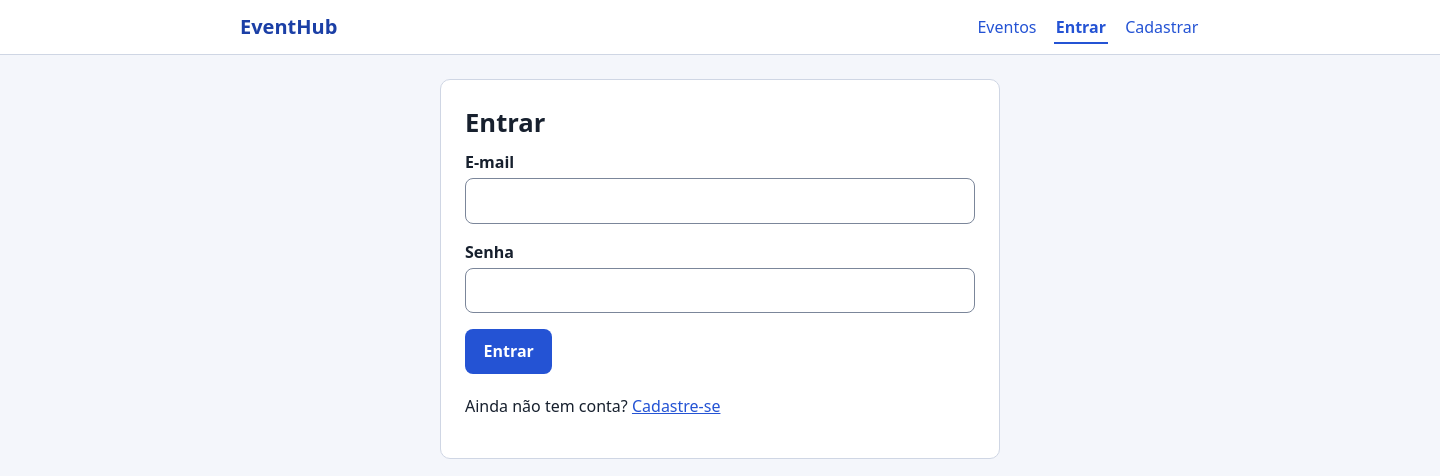
Rotas e guardas (só experiência de navegação; o backend autoriza de fato) › participante vê "acesso negado" na busca, sem nenhuma chamada à API de busca
Type "maria@example.com" into the field labelled "E-mail".
click(720, 201); type("maria@example.com")  # box [465,178,975,224]
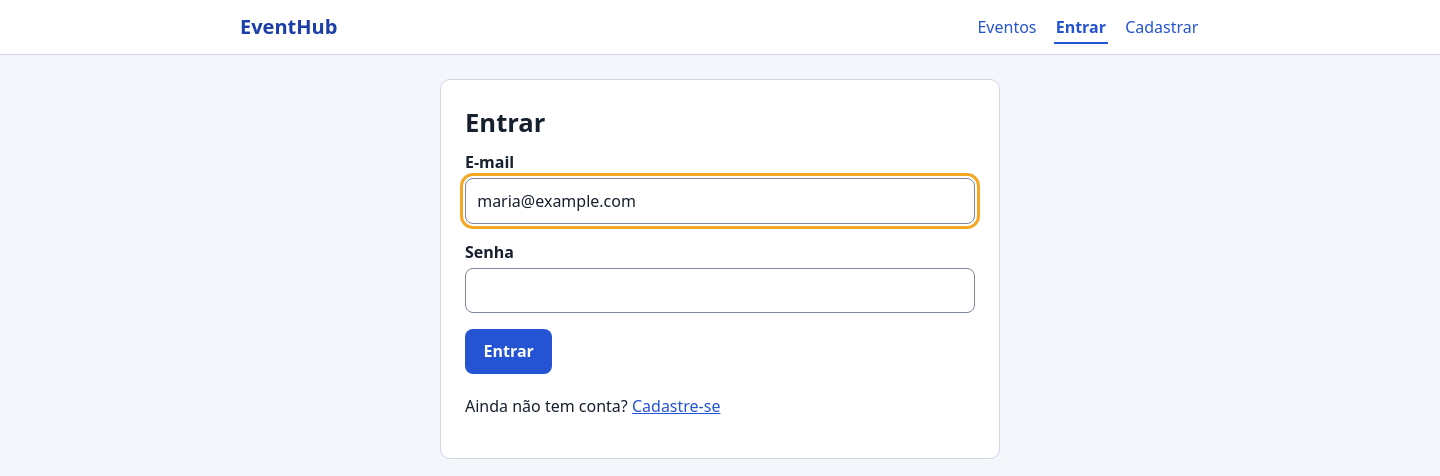
Type "senha-forte-123" into the password field labelled "Senha".
click(720, 290); type("senha-forte-123")  # box [465,268,975,313]
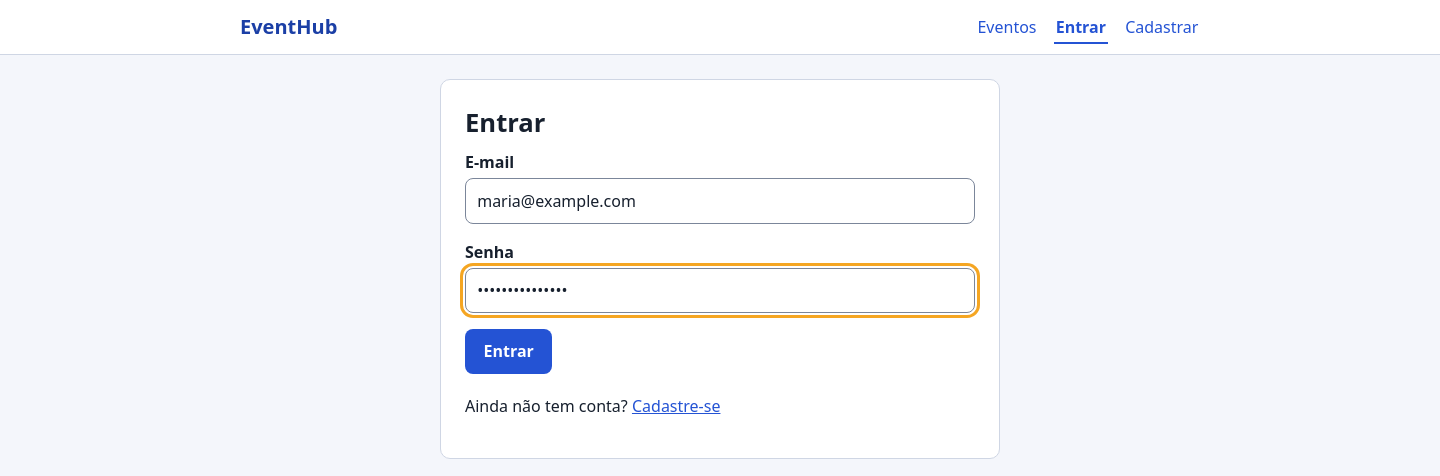
Click the button "Entrar".
click(509, 351)  # box [465,329,552,374]
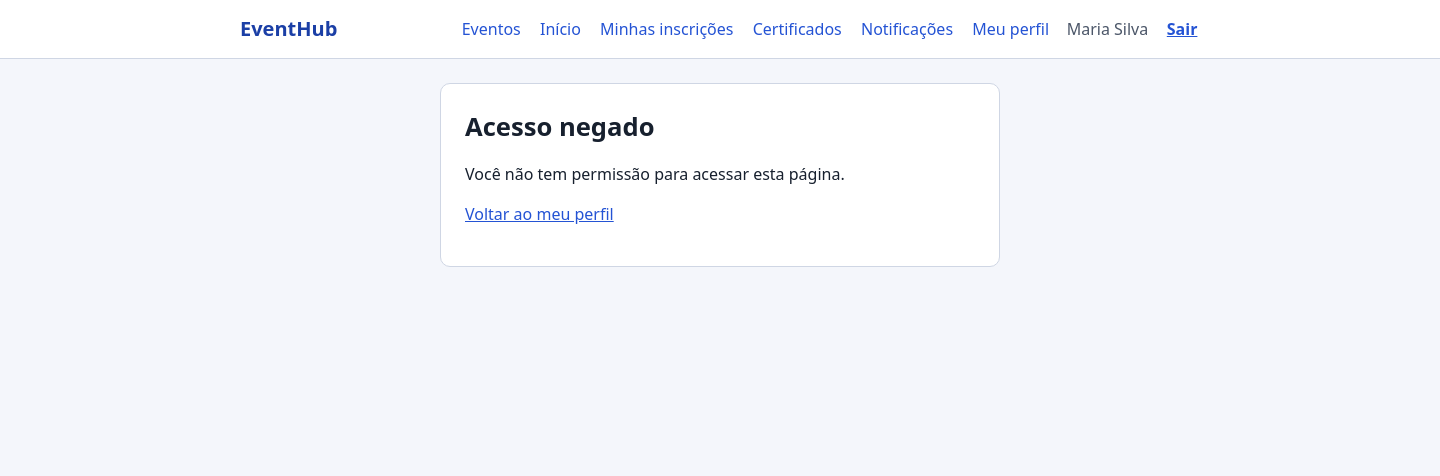
Expected: the heading "Acesso negado" is shown, [465,109,654,144]
